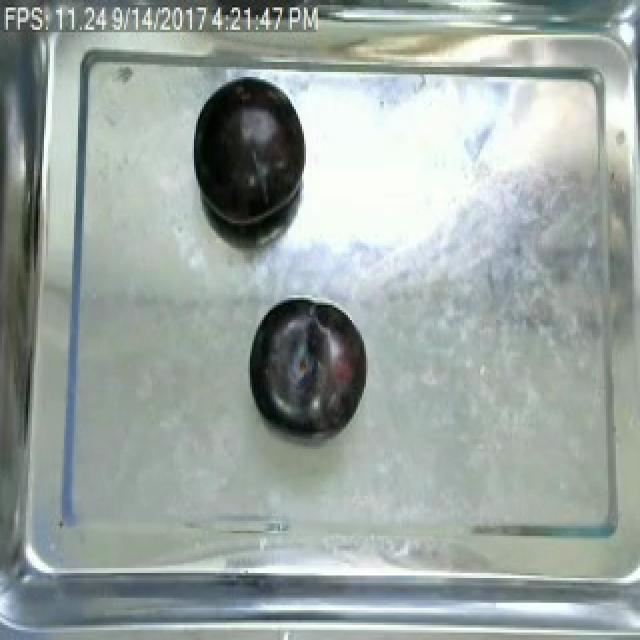Fruit: (190, 77, 310, 236), (244, 295, 368, 439)
